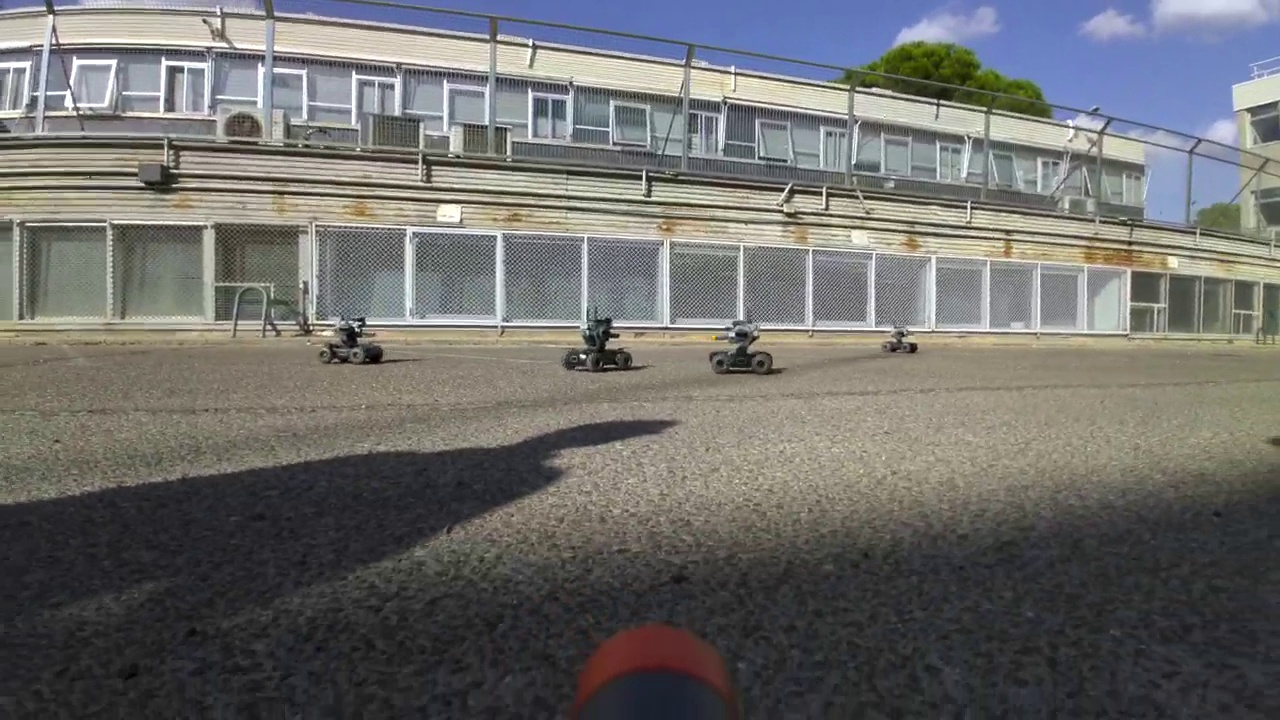robot: (561, 305, 635, 378), (709, 307, 776, 376), (311, 312, 384, 366), (879, 317, 919, 354)
